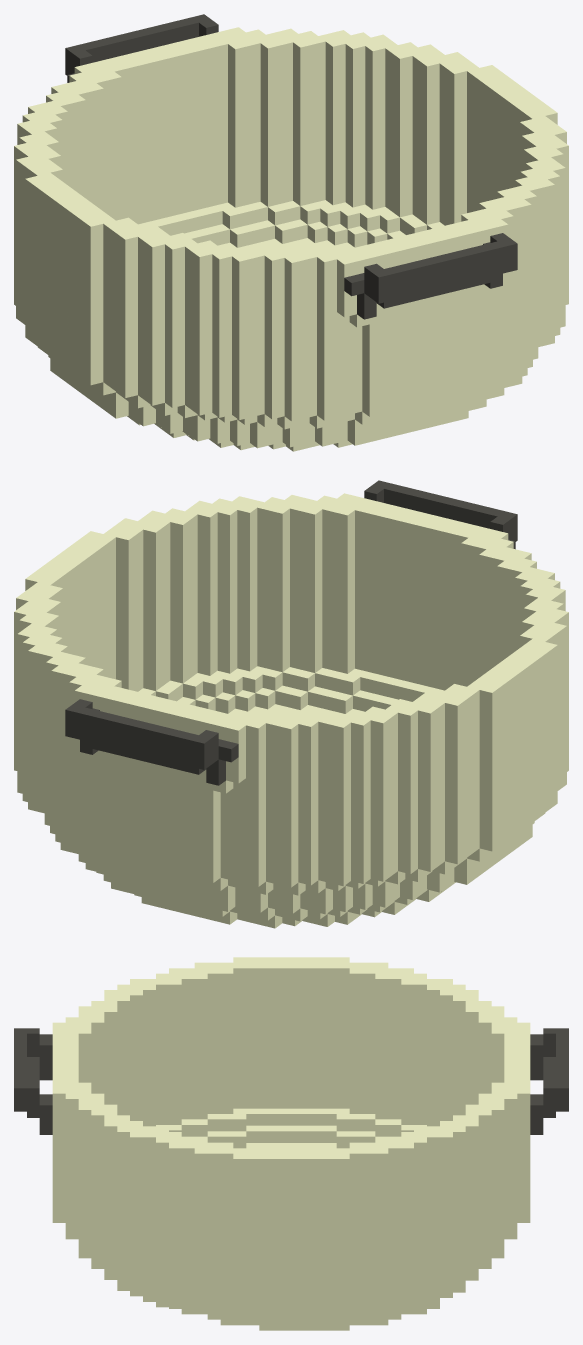
File: agenabe.obj
3 renders of one model, top to bottom at view 1: azimuth 30°, elevation 25°; view 2: azimuth 150°, elevation 25°; view 3: azimuth 270°, elevation 25°, orthographic. The views are drawn at different scales.
Size of the model in its own units: 3.7 by 1.7 by 4.3.
1 material, 1 textured.
